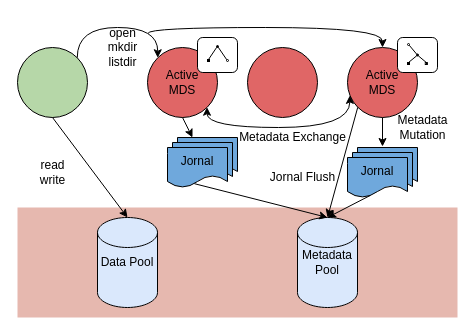
This 475x334 diagram has some shape labels left out. The box of each missing label's shape, as (x1, y1, x2, y2) in pixels:
Client: (16, 46, 88, 118)
RADOS: (17, 207, 457, 317)
Standby MDS: (246, 46, 318, 118)
